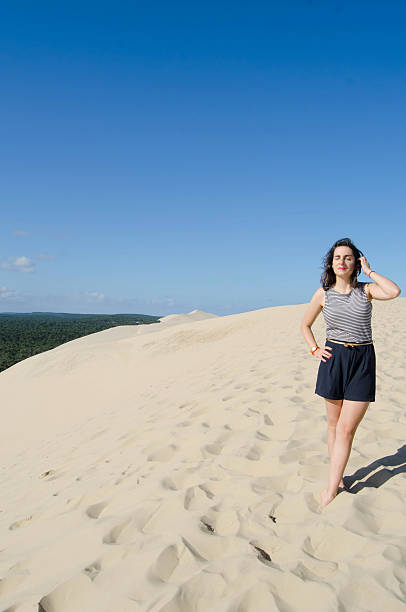human_footprint: (140, 547, 193, 587), (197, 502, 237, 545), (353, 494, 398, 528), (280, 566, 331, 596), (64, 564, 100, 606), (96, 516, 136, 552), (256, 507, 306, 534), (380, 552, 406, 601), (256, 408, 292, 440), (311, 530, 350, 558), (256, 537, 282, 575), (203, 444, 240, 470), (239, 439, 270, 469), (248, 475, 287, 498), (85, 506, 116, 520)
